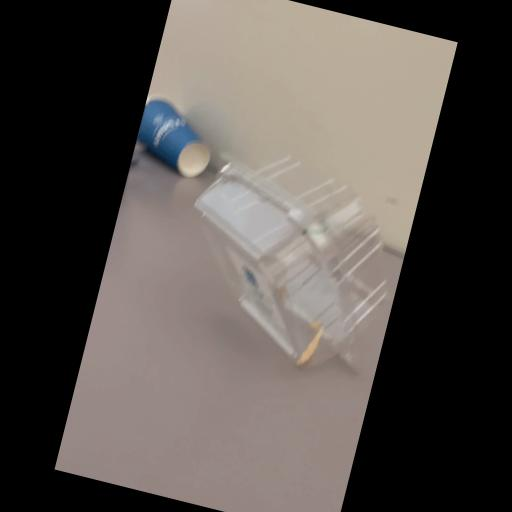lp_paper_cup: (131, 92, 224, 182)
small_plastic_container: (162, 136, 418, 383)
